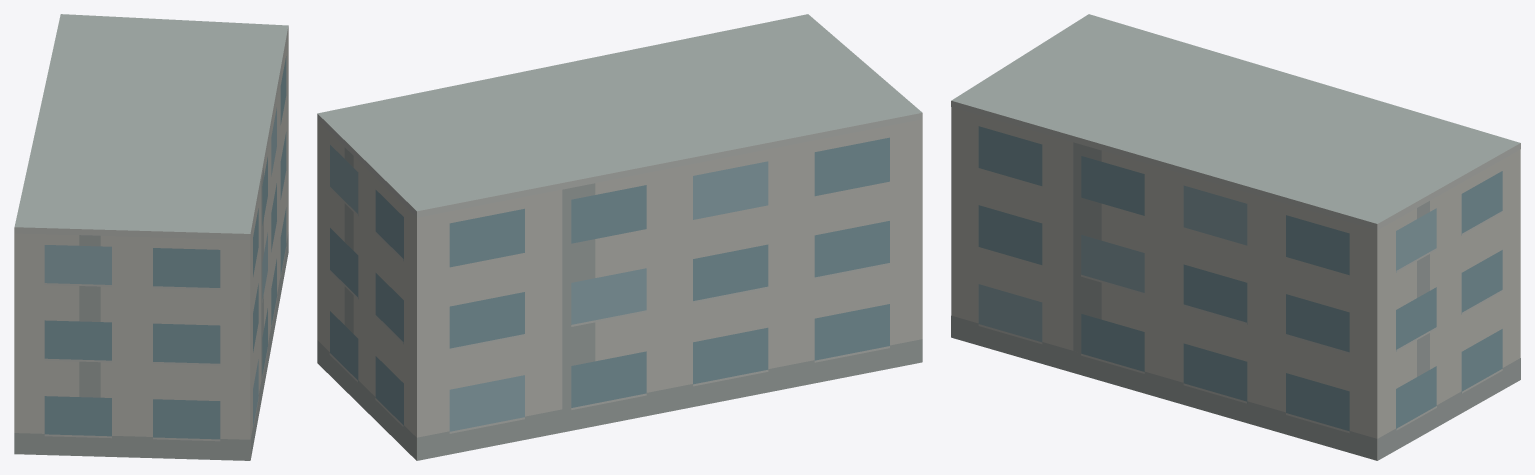
Rendered from survey-upis-33029943.glb.
The picture shows the model from 3 angles, left to right: view 1: azimuth 30°, elevation 25°; view 2: azimuth 150°, elevation 25°; view 3: azimuth 270°, elevation 25°; orthographic projection. The views are drawn at different scales.
Parts seen in each view (by area): view 1: survey-upis-33029943.tmp; view 2: survey-upis-33029943.tmp; view 3: survey-upis-33029943.tmp.
Part boxes in pixels (x1=…): survey-upis-33029943.tmp: x1=14, y1=14, x2=288, y2=460; survey-upis-33029943.tmp: x1=317, y1=14, x2=922, y2=460; survey-upis-33029943.tmp: x1=951, y1=14, x2=1520, y2=460.
Size of the model in its own units: 17.41 by 9.15 by 19.95.
